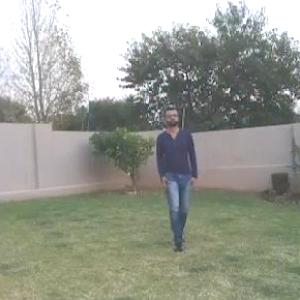follow: (152, 101, 203, 250)
